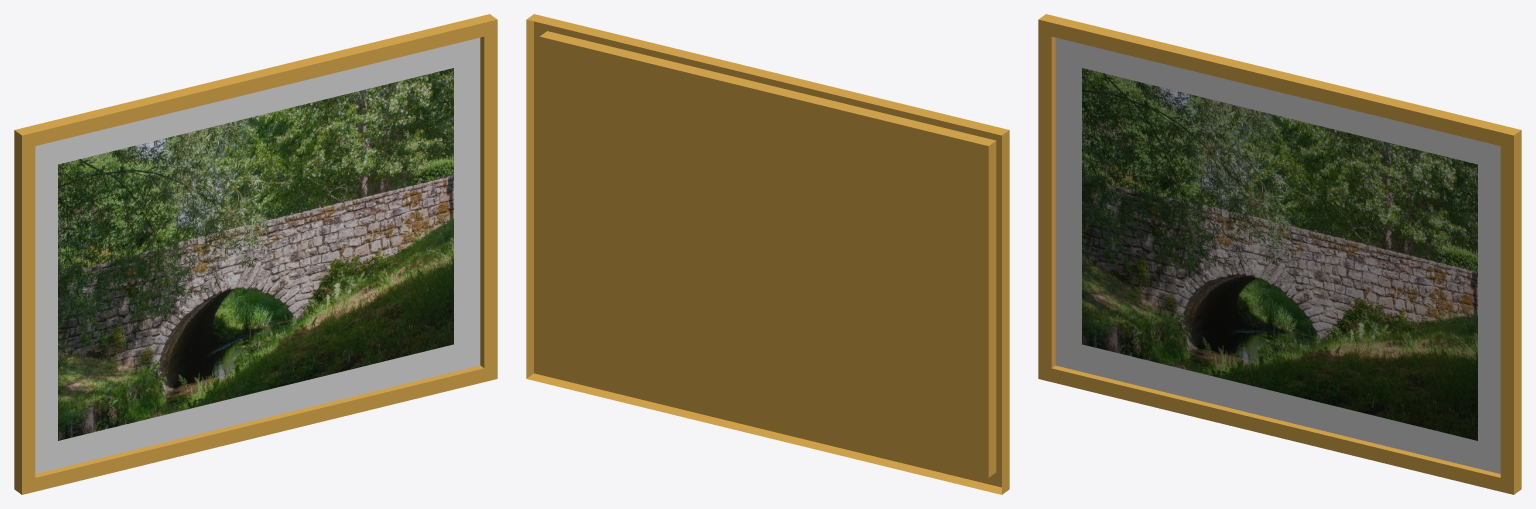
The model's file is bridge.fbx.
3 views of the same model, side by side, from view 1: azimuth 30°, elevation 25°; view 2: azimuth 150°, elevation 25°; view 3: azimuth 330°, elevation 25° (orthographic).
Parts seen in each view (by area): view 1: Image, Background, Frame; view 2: Frame; view 3: Image, Background, Frame.
Part boxes in pixels (<box>): Image: <box>58,68,453,440</box>; Background: <box>35,37,480,473</box>; Frame: <box>14,14,497,494</box>; Frame: <box>526,14,1009,494</box>; Image: <box>1082,68,1477,440</box>; Background: <box>1055,37,1500,473</box>; Frame: <box>1038,14,1521,494</box>.
Size of the model in its own units: 360 by 260 by 10.
